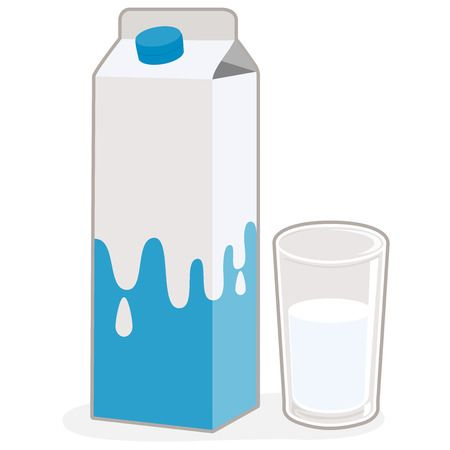glass of milk: (275, 220, 393, 430)
